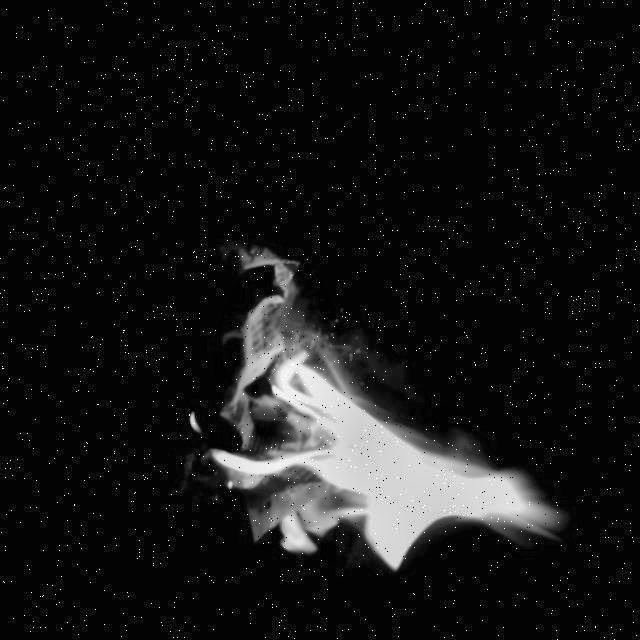Fire: (141, 310, 595, 640)
